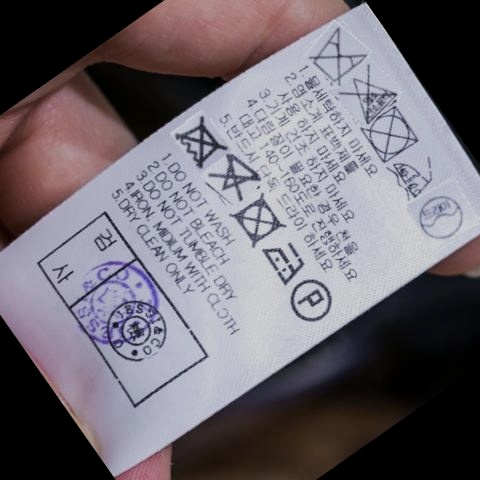DN_bleach: (353, 75, 395, 119), (220, 154, 261, 198)
DN_tumble_dry: (363, 105, 424, 160), (239, 197, 287, 245)
DN_wash: (314, 33, 368, 84), (177, 120, 227, 164)
dry_clean: (414, 188, 470, 244)
dry_clean_any_solvent_except_trichloroethylene: (287, 279, 341, 327)
iron_medium: (264, 237, 307, 285), (390, 156, 435, 198)
